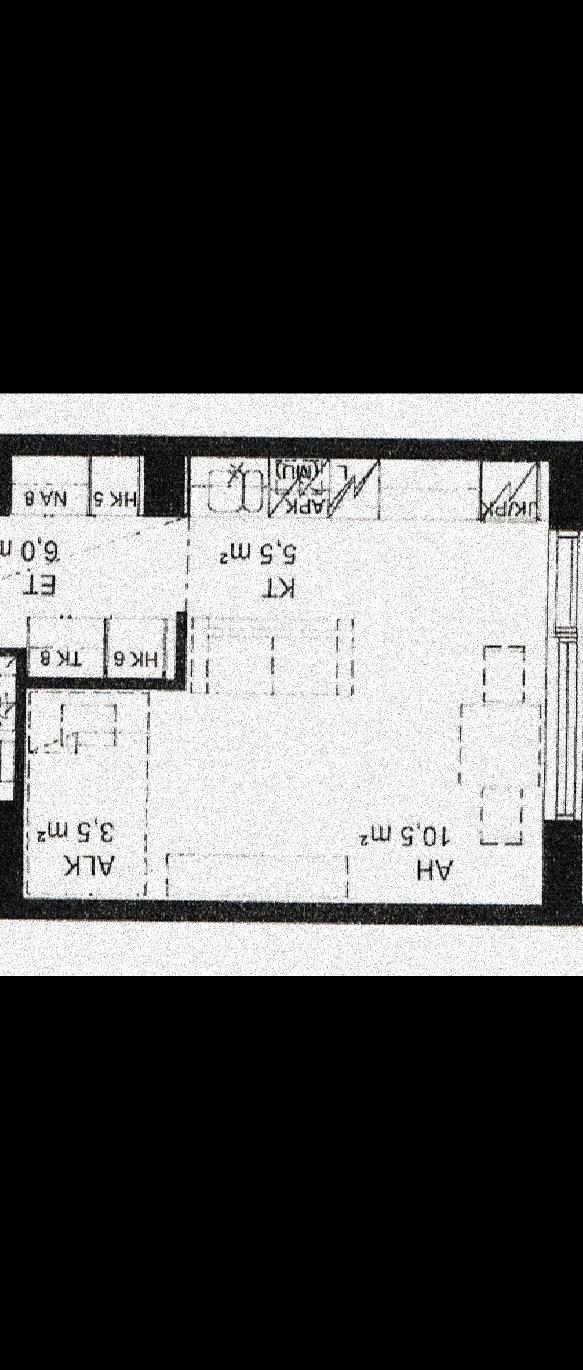window: (544, 634, 582, 824), (546, 534, 582, 628)
zone: (20, 454, 546, 905), (14, 453, 178, 680)
